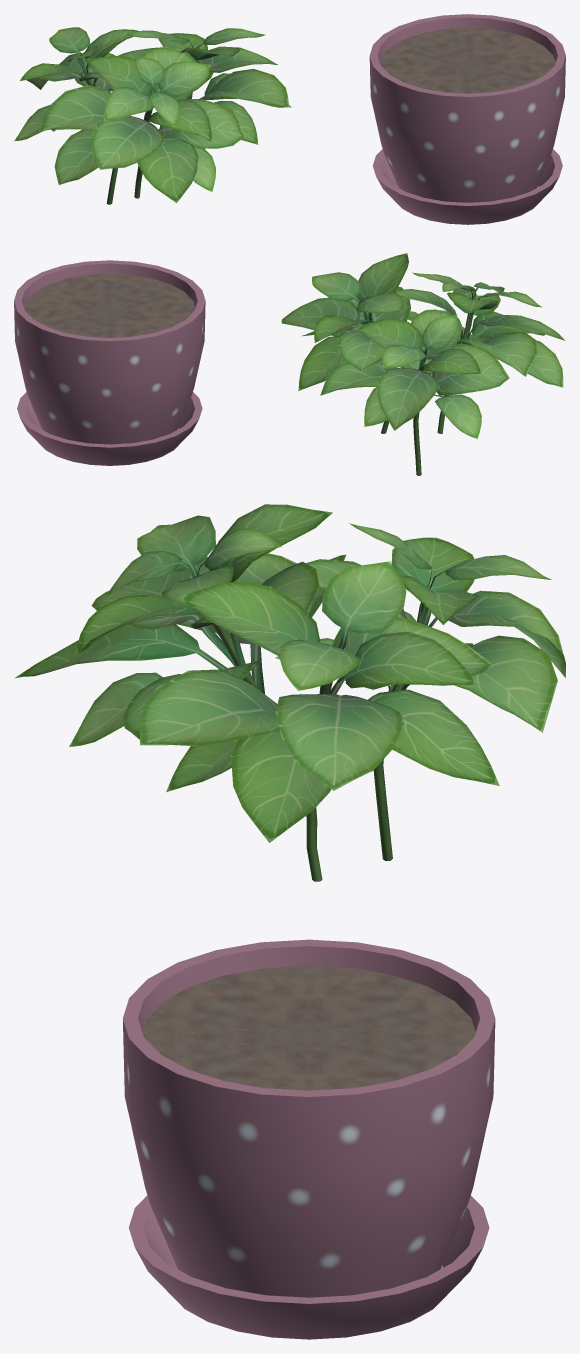
Rendered from crop_basil.gltf.
The picture shows the model from 3 angles, top to bottom: view 1: azimuth 30°, elevation 25°; view 2: azimuth 150°, elevation 25°; view 3: azimuth 270°, elevation 25°; orthographic projection. The views are drawn at different scales.
Visible parts, largest first — view 1: Pot.001, Basil_A.002; view 2: Pot.001, Basil_A.002; view 3: Pot.001, Basil_A.002.
Part boxes in pixels (bbox=[...]): Pot.001: bbox=[369, 14, 565, 224]; Basil_A.002: bbox=[14, 27, 291, 204]; Pot.001: bbox=[14, 260, 205, 465]; Basil_A.002: bbox=[281, 253, 565, 475]; Pot.001: bbox=[123, 939, 495, 1339]; Basil_A.002: bbox=[14, 504, 565, 881].
Bounding box in the file's own units: 0.4766 × 0.1991 × 0.2301.
Materials: 2 (2 with a texture image).
